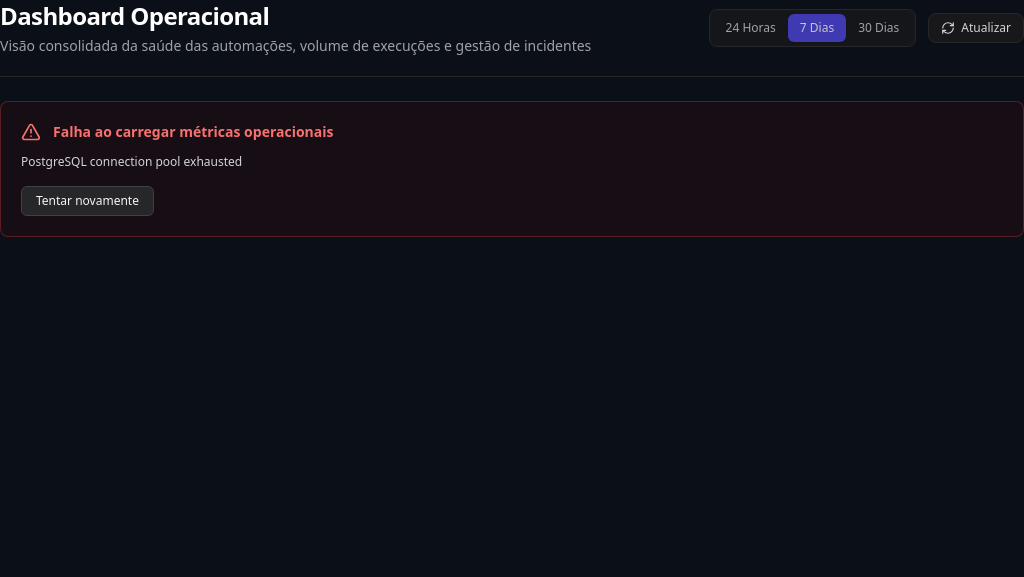
Test: DashboardPage (/dashboard) › should render RFC 7807 error alert on API failure and retry when clicking "Tentar novamente"
Check: the message with test id "dashboard-error-alert" is shown, box [0,101,1023,237]
Check: the text "PostgreSQL connection pool exhausted" is shown, box [21,153,242,170]
Click the button "Tentar novamente".
click(87, 201)  # box [21,186,154,216]
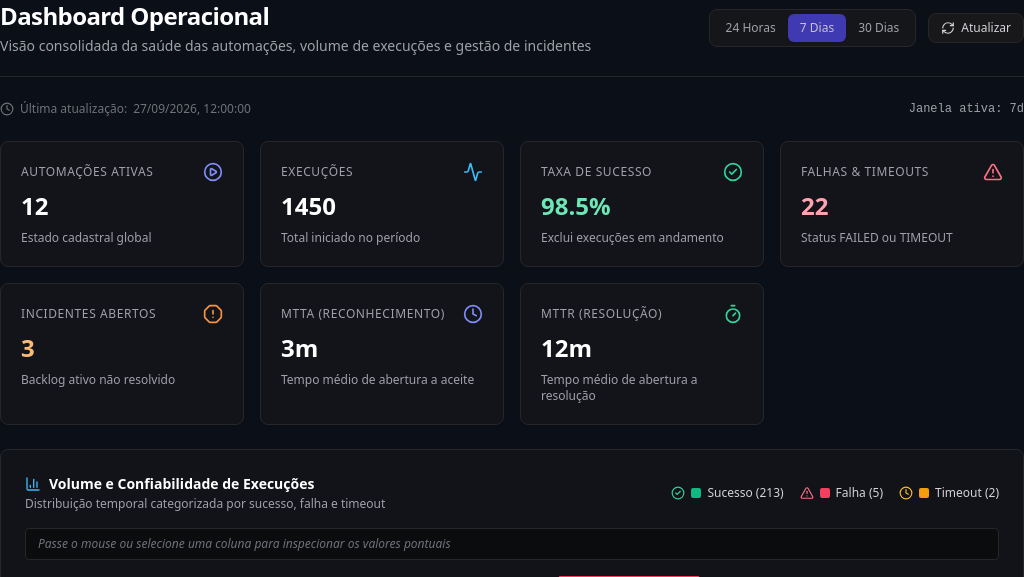
Check: the text "12" is shown, box [21,189,48,222]
Check: the message with test id "dashboard-error-alert" is gone
